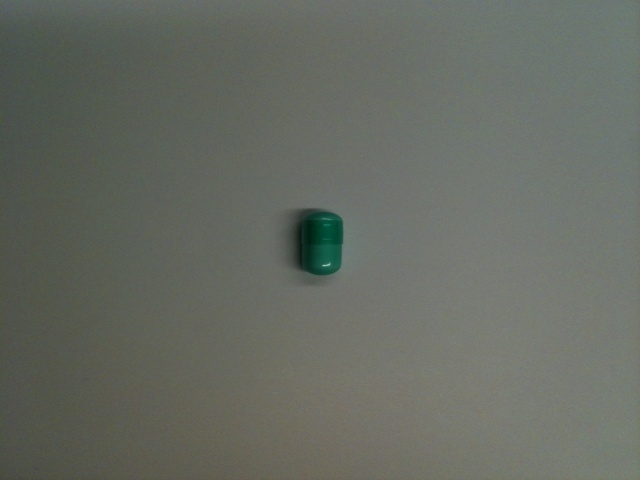capsule: (298, 209, 345, 276)
